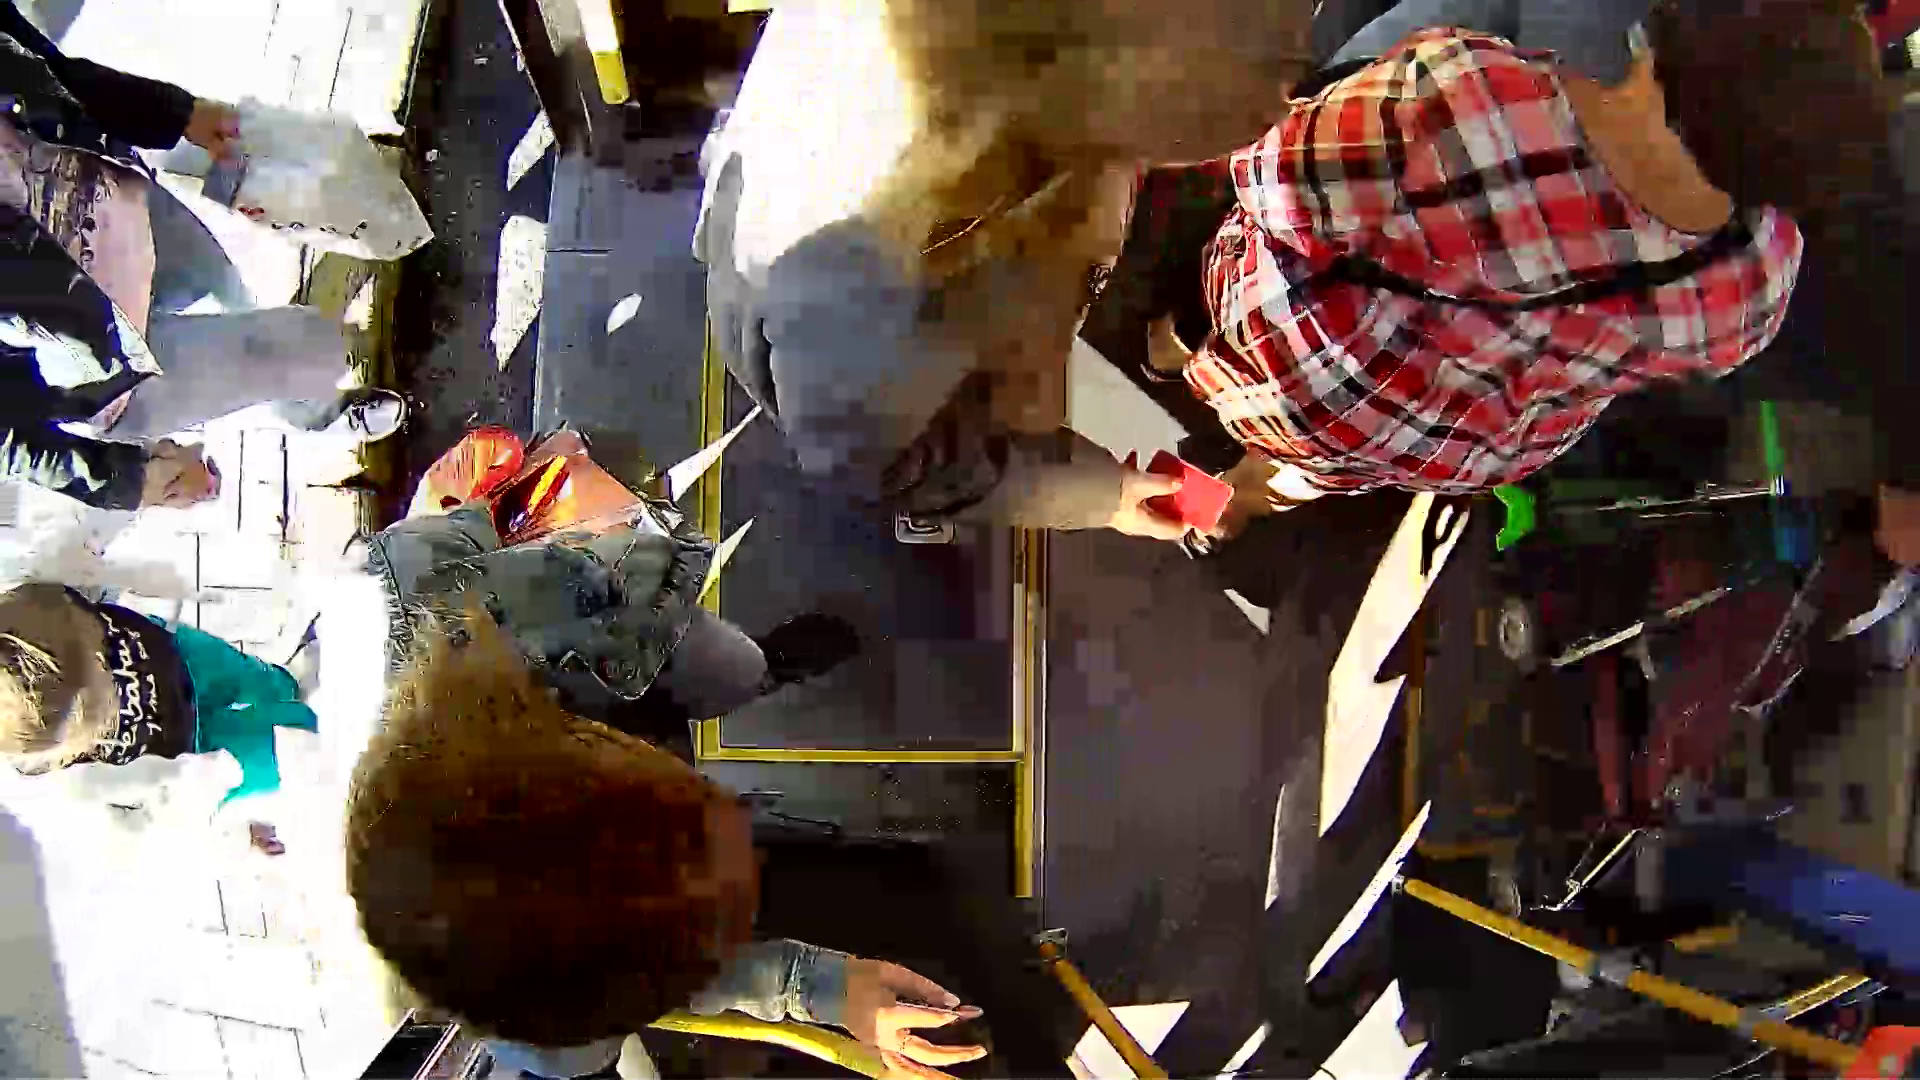person: (328, 476, 919, 1041), (679, 11, 1280, 424), (1352, 1, 1837, 504)
